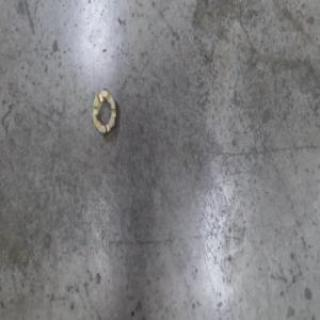Nuttrack_idkeyframe: (90, 84, 118, 136)
